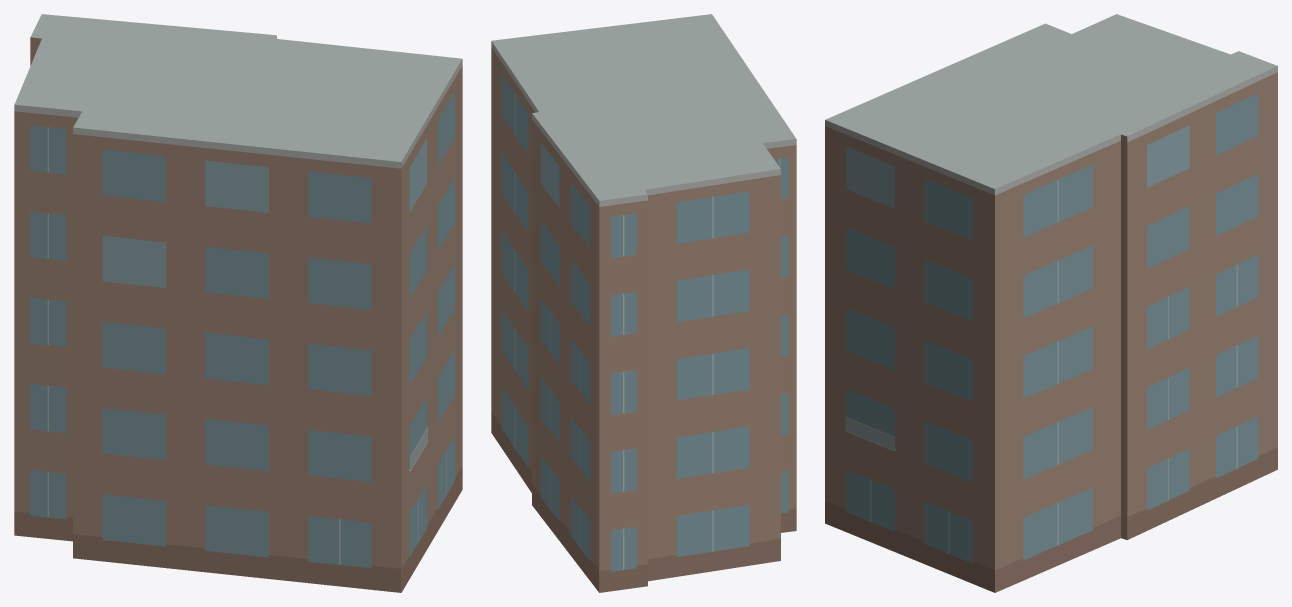
Rendered from survey-upis-32497975.glb.
3 renders of one model, left to right at view 1: azimuth 30°, elevation 25°; view 2: azimuth 150°, elevation 25°; view 3: azimuth 270°, elevation 25°, orthographic. The views are drawn at different scales.
Visible parts, largest first — view 1: survey-upis-32497975.tmp; view 2: survey-upis-32497975.tmp; view 3: survey-upis-32497975.tmp.
Part boxes in pixels (x1,y1,x2,y2): survey-upis-32497975.tmp: (14,14,462,592); survey-upis-32497975.tmp: (491,14,796,592); survey-upis-32497975.tmp: (825,14,1277,592).
Size of the model in its own units: 14.81 by 15.9 by 16.17.
